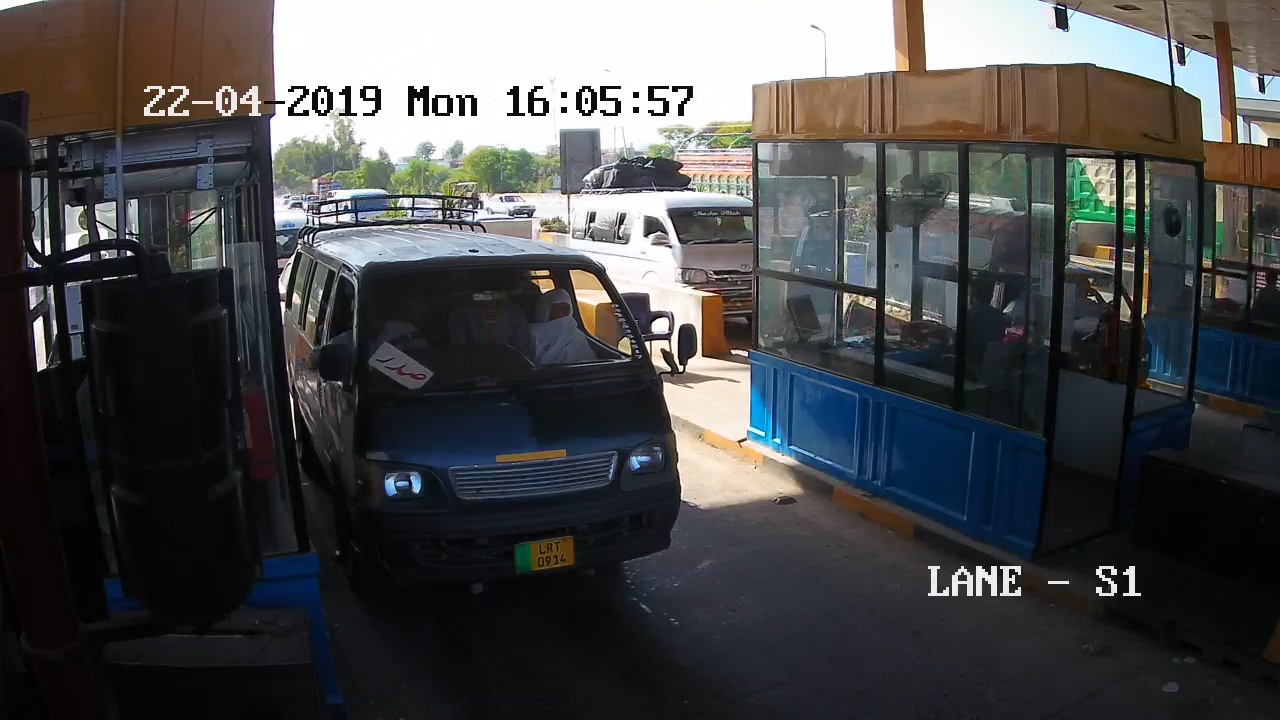Number Plate (Car): (511, 541, 576, 569)
